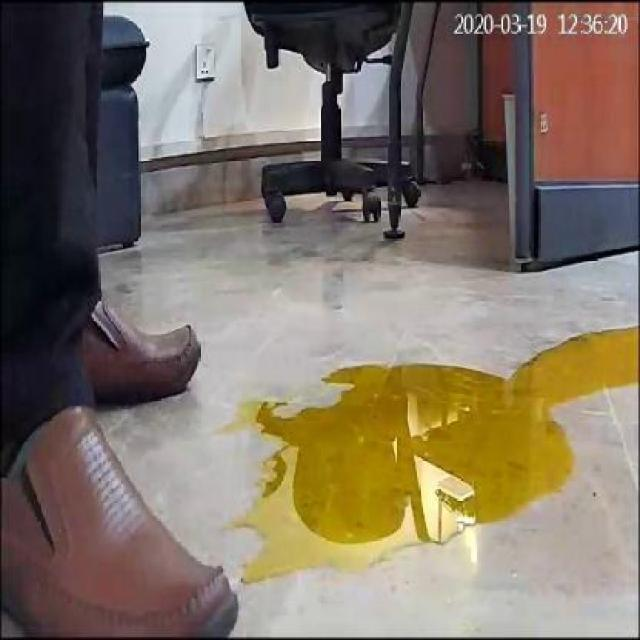spill: (235, 322, 638, 582)
